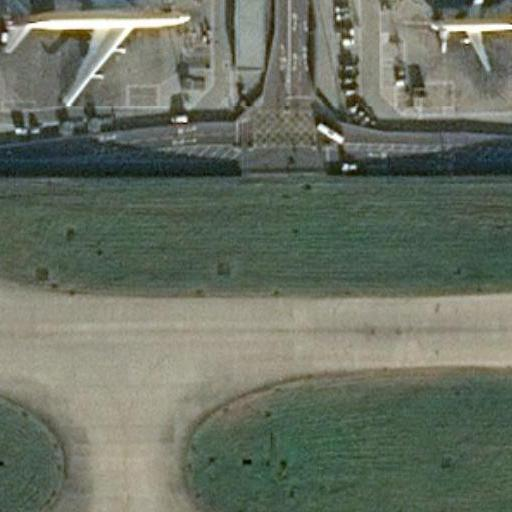Aircraft: (0, 0, 189, 107), (426, 0, 512, 70)
